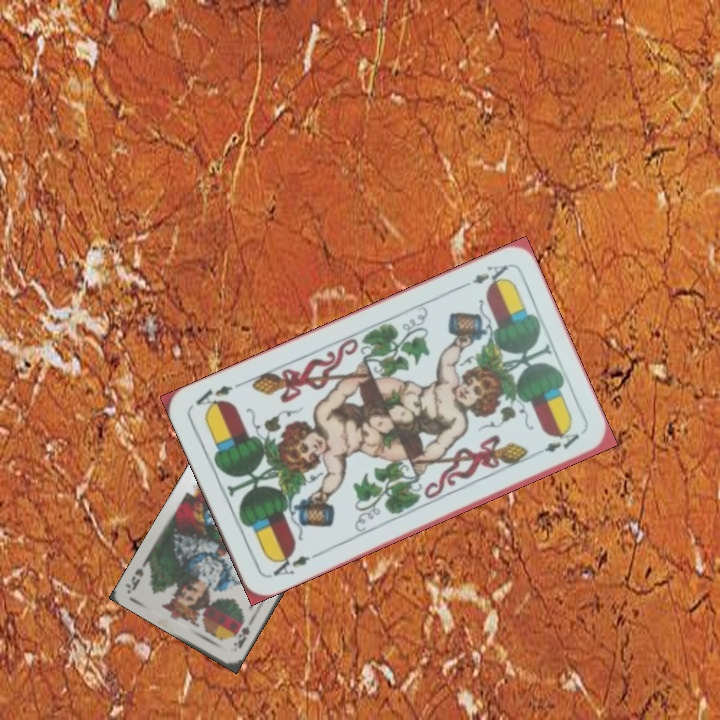EA: (265, 548, 321, 580), (455, 261, 511, 292)
SK: (229, 615, 252, 651)
